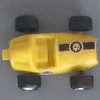amarillo: (6, 17, 97, 88)
